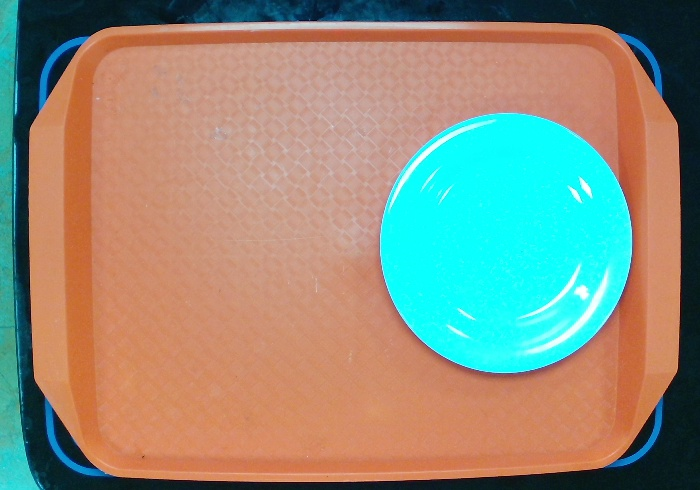RJxy-Yuan_Pan: (366, 106, 641, 376)
